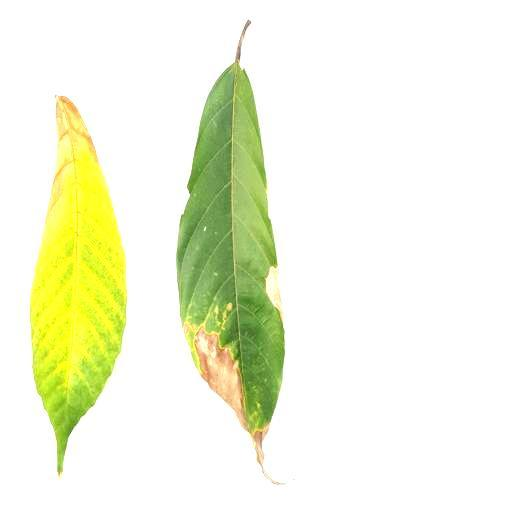Potassium: (177, 23, 284, 479), (31, 96, 126, 473)
